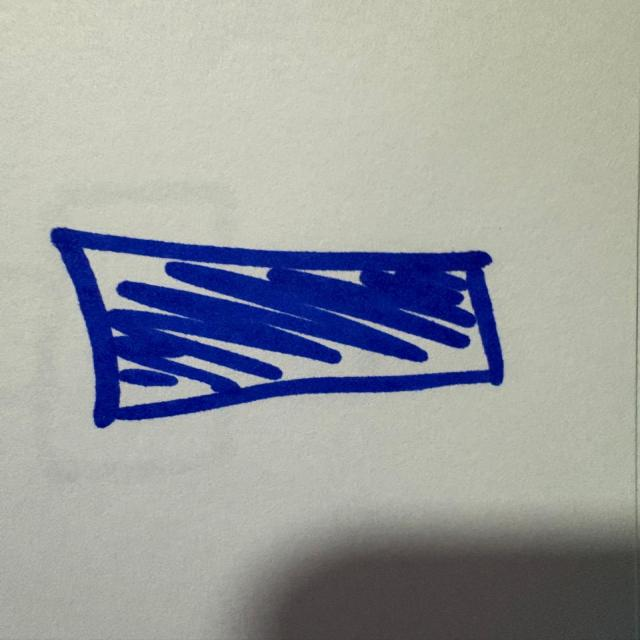Rectangle: (39, 217, 531, 433)
